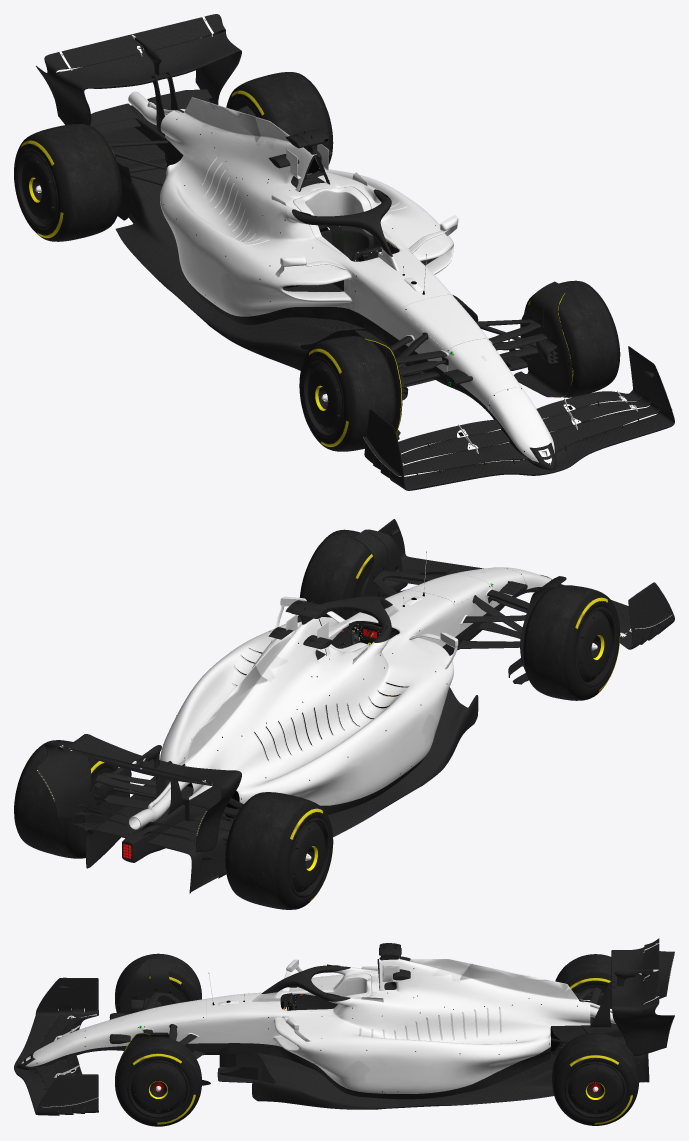
The model's file is papaya-f1.glb.
3 views of the same model, one above another, from view 1: azimuth 30°, elevation 25°; view 2: azimuth 150°, elevation 25°; view 3: azimuth 270°, elevation 25° (orthographic). The views are drawn at different scales.
Visible parts, largest first — view 1: Monkeyseat_carbon_0, FWING_SUB0_car_chassis_0, TYRE_RF_SUB1_Wheels_TREAD_0, RIM_BLUR_RF_SUB0_RIM_0, _ADD_RWING_chrome_0; view 2: FWING_SUB0_car_chassis_0, Monkeyseat_carbon_0, TYRE_RF_SUB1_Wheels_TREAD_0, RIM_BLUR_RF_SUB0_RIM_0, exhaust_exhaust_0, Object081_SUB1_BLACK_0; view 3: FWING_SUB0_car_chassis_0, Monkeyseat_carbon_0, TYRE_RF_SUB1_Wheels_TREAD_0, RIM_BLUR_RF_SUB0_RIM_0, COCKPIT_BASE_SUB0_carbon_cockpit_0, _ADD_RWING_chrome_0.
Part boxes in pixels (box(x1,y1,x2,y2)): Monkeyseat_carbon_0: box(36, 14, 674, 490); FWING_SUB0_car_chassis_0: box(160, 97, 554, 476); TYRE_RF_SUB1_Wheels_TREAD_0: box(14, 72, 620, 451); RIM_BLUR_RF_SUB0_RIM_0: box(16, 99, 343, 438); _ADD_RWING_chrome_0: box(35, 16, 637, 464); FWING_SUB0_car_chassis_0: box(160, 567, 671, 805); Monkeyseat_carbon_0: box(36, 519, 674, 893); TYRE_RF_SUB1_Wheels_TREAD_0: box(14, 529, 620, 909); RIM_BLUR_RF_SUB0_RIM_0: box(78, 561, 616, 897); exhaust_exhaust_0: box(129, 765, 189, 829); Object081_SUB1_BLACK_0: box(187, 584, 491, 818); FWING_SUB0_car_chassis_0: box(21, 957, 590, 1107); Monkeyseat_carbon_0: box(14, 938, 674, 1115); TYRE_RF_SUB1_Wheels_TREAD_0: box(115, 953, 639, 1126); RIM_BLUR_RF_SUB0_RIM_0: box(127, 983, 626, 1118); COCKPIT_BASE_SUB0_carbon_cockpit_0: box(198, 993, 337, 1043); _ADD_RWING_chrome_0: box(54, 943, 659, 1092).
Bounding box in the file's own units: 4.04 × 2.41 × 10.84.
32 materials, 14 textured.
